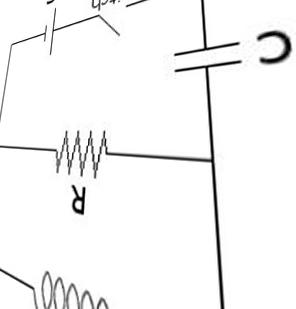resistor: (34, 123, 130, 180)
